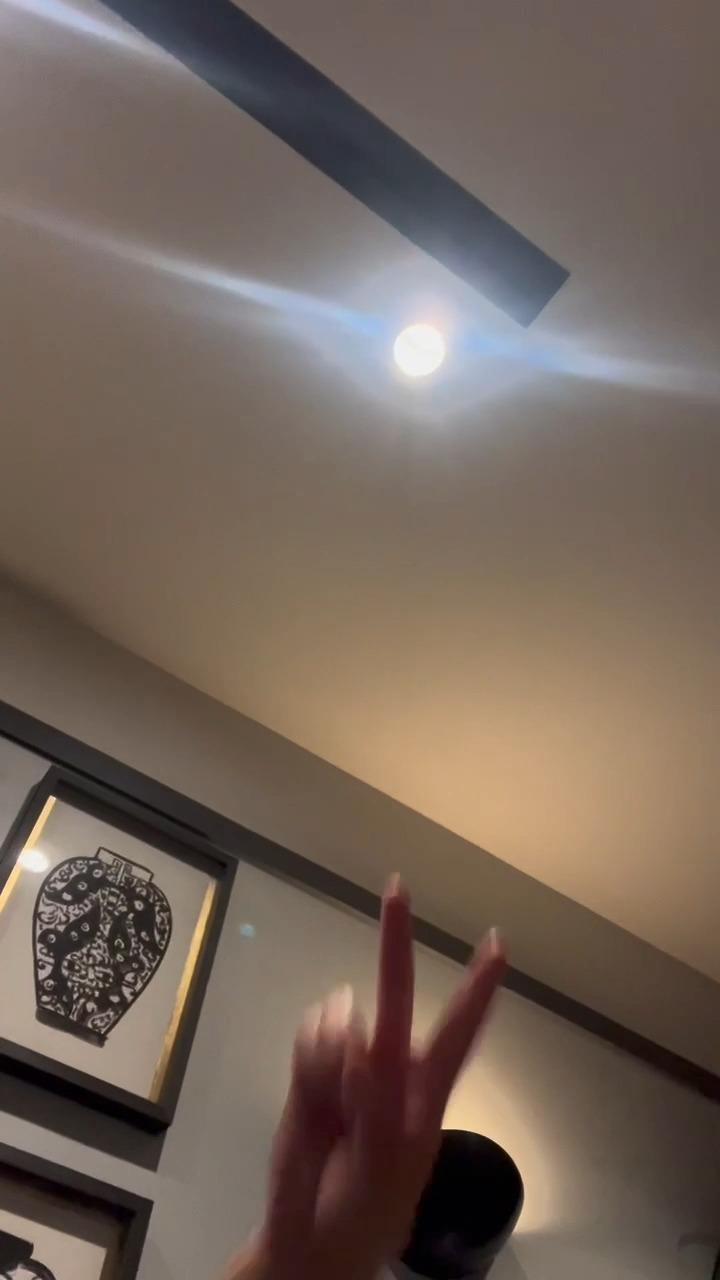Scissors: (262, 872, 510, 1280)
